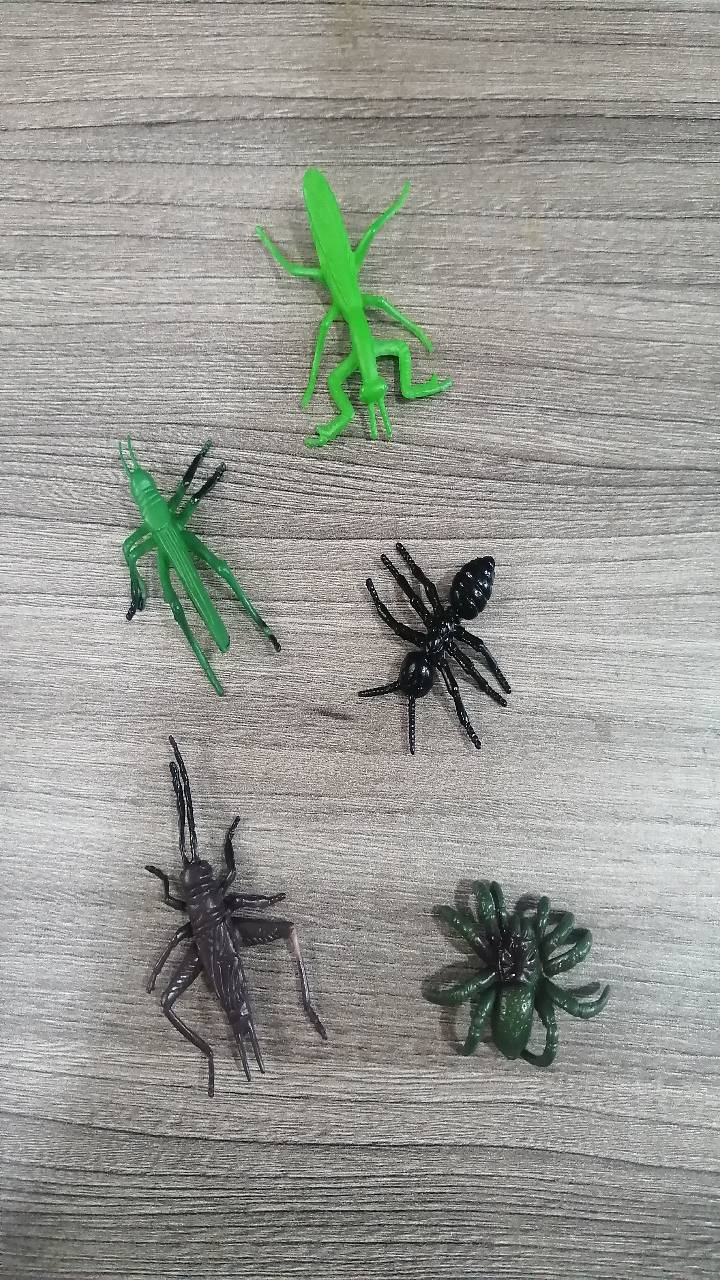intruso: (100, 728, 343, 1095), (44, 405, 301, 700), (235, 135, 454, 451), (318, 499, 544, 774), (398, 826, 621, 1091)
